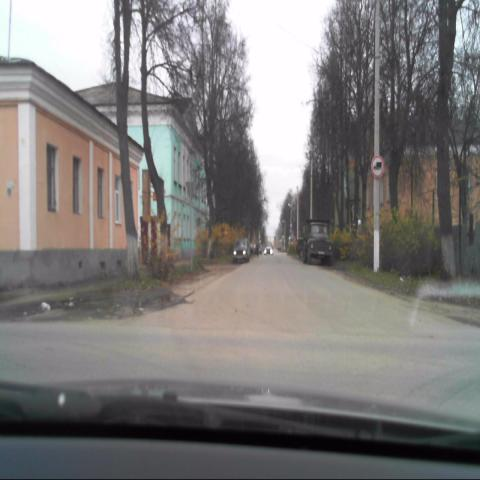3_4_1: (371, 152, 385, 176)
